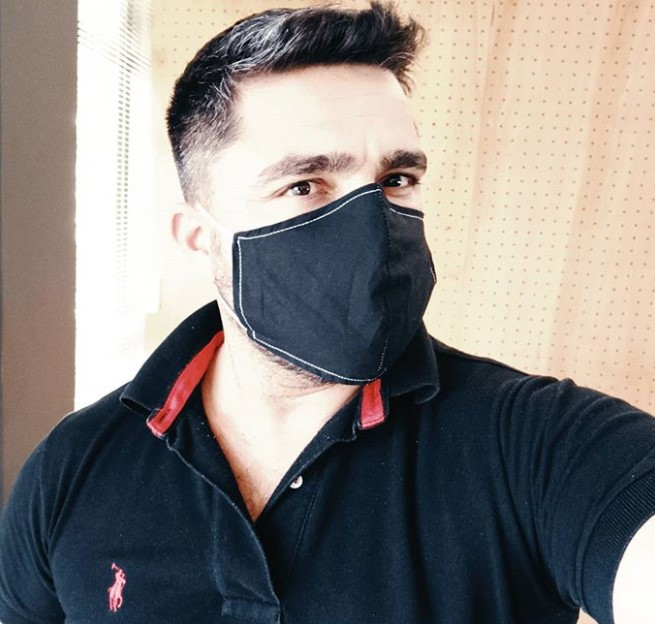face_with_mask: (172, 8, 441, 396)
